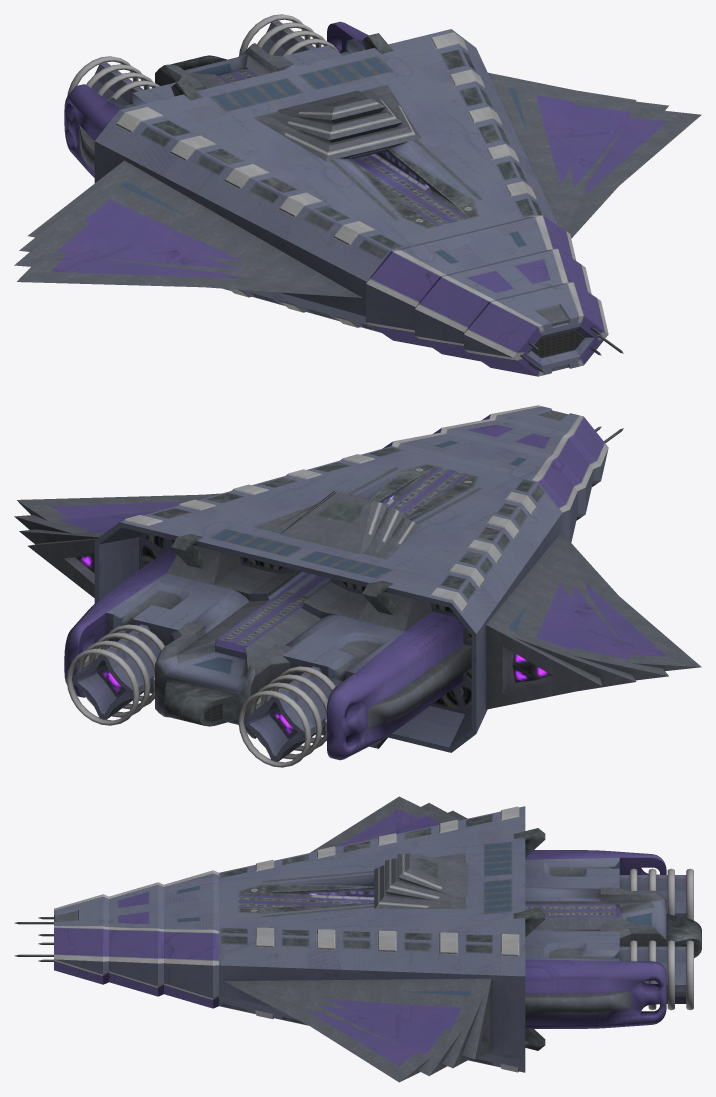
File: hippocrates.glb
The picture shows the model from 3 angles, top to bottom: view 1: azimuth 30°, elevation 25°; view 2: azimuth 150°, elevation 25°; view 3: azimuth 270°, elevation 25°; orthographic projection. The views are drawn at different scales.
Visible parts, largest first — view 1: MeshLP; view 2: MeshLP; view 3: MeshLP.
Part boxes in pixels (x1=…): MeshLP: x1=14, y1=14, x2=701, y2=376; MeshLP: x1=14, y1=405, x2=701, y2=767; MeshLP: x1=14, y1=796, x2=701, y2=1082.
Bounding box in the file's own units: 14.37 × 3.65 × 14.6.
Materials: 1 (1 with a texture image).
